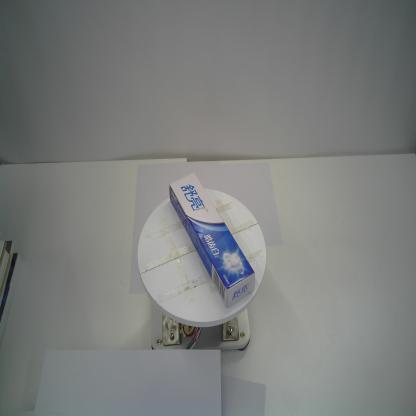Personal Hygiene: (169, 172, 254, 309)
